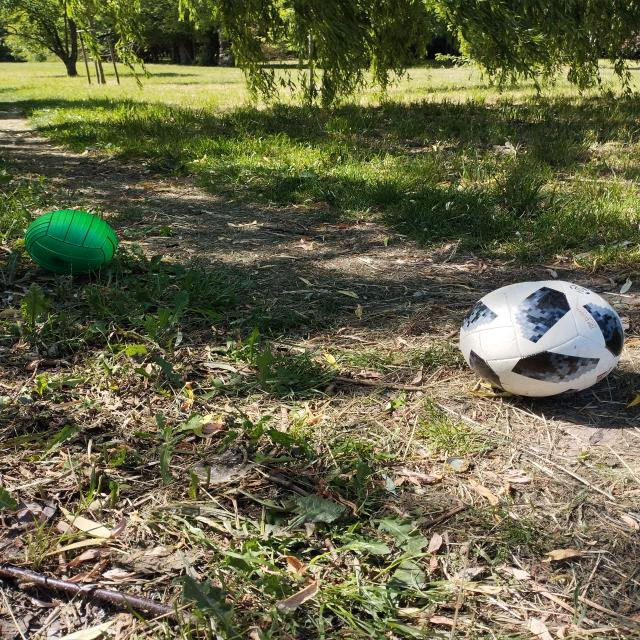nozna: (460, 280, 624, 397)
zielona: (25, 209, 118, 275)
